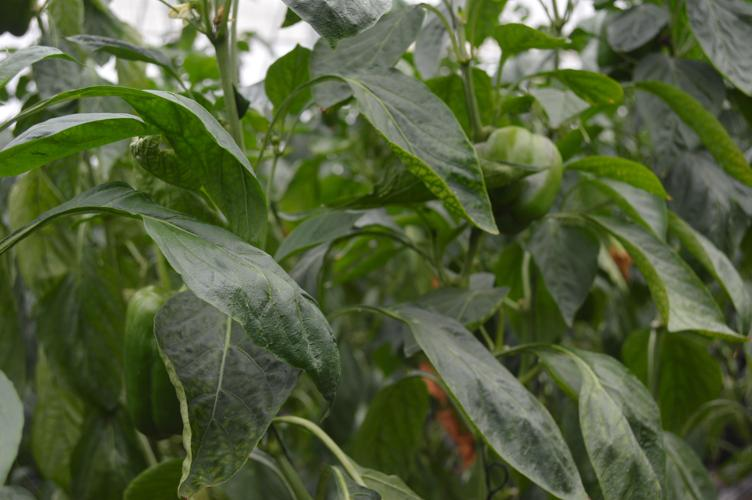BellPepper: (108, 289, 218, 434), (457, 126, 564, 215)
